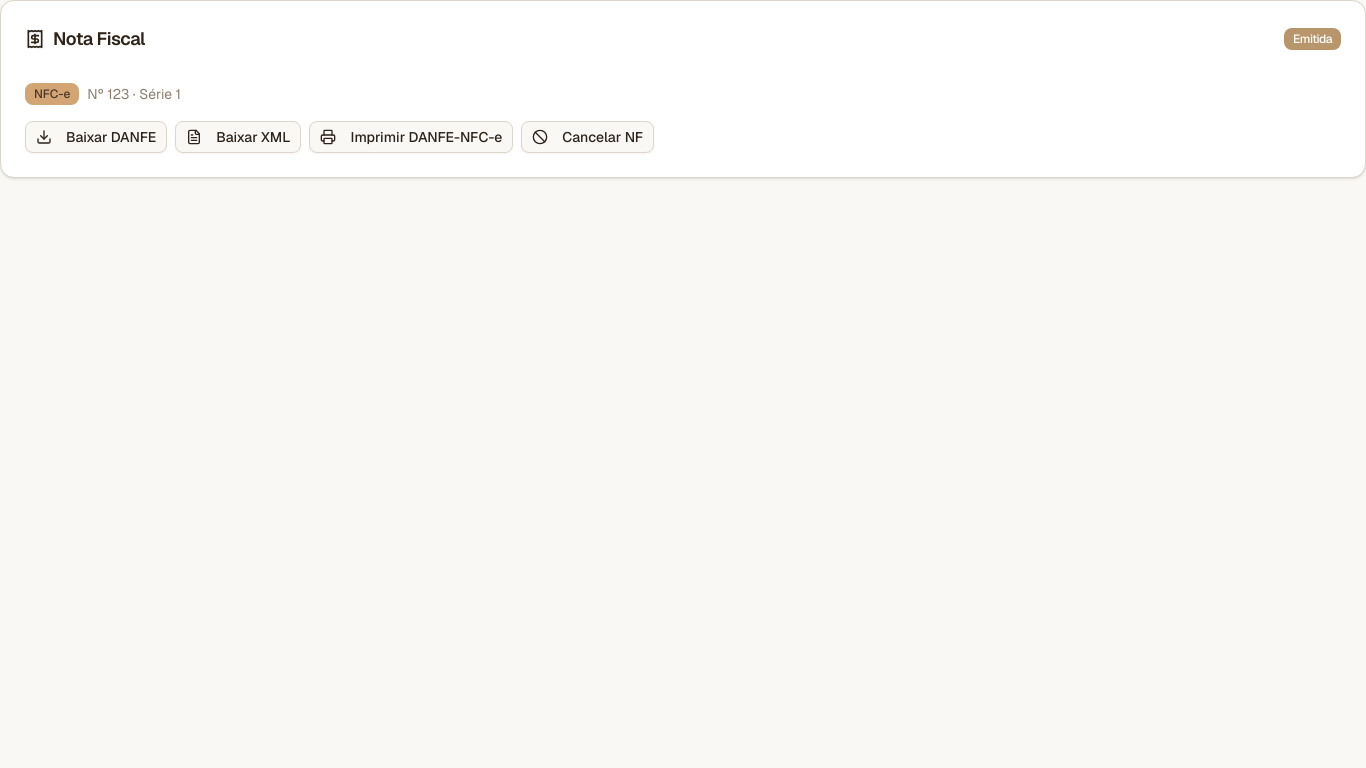
Scenario: NfSection cancellation › shows the SEFAZ rejection message inside the dialog
This screenshot has width=1366, height=768.
Step 1. Click the button "Cancelar NF" → (588, 137), box [521, 121, 654, 153]
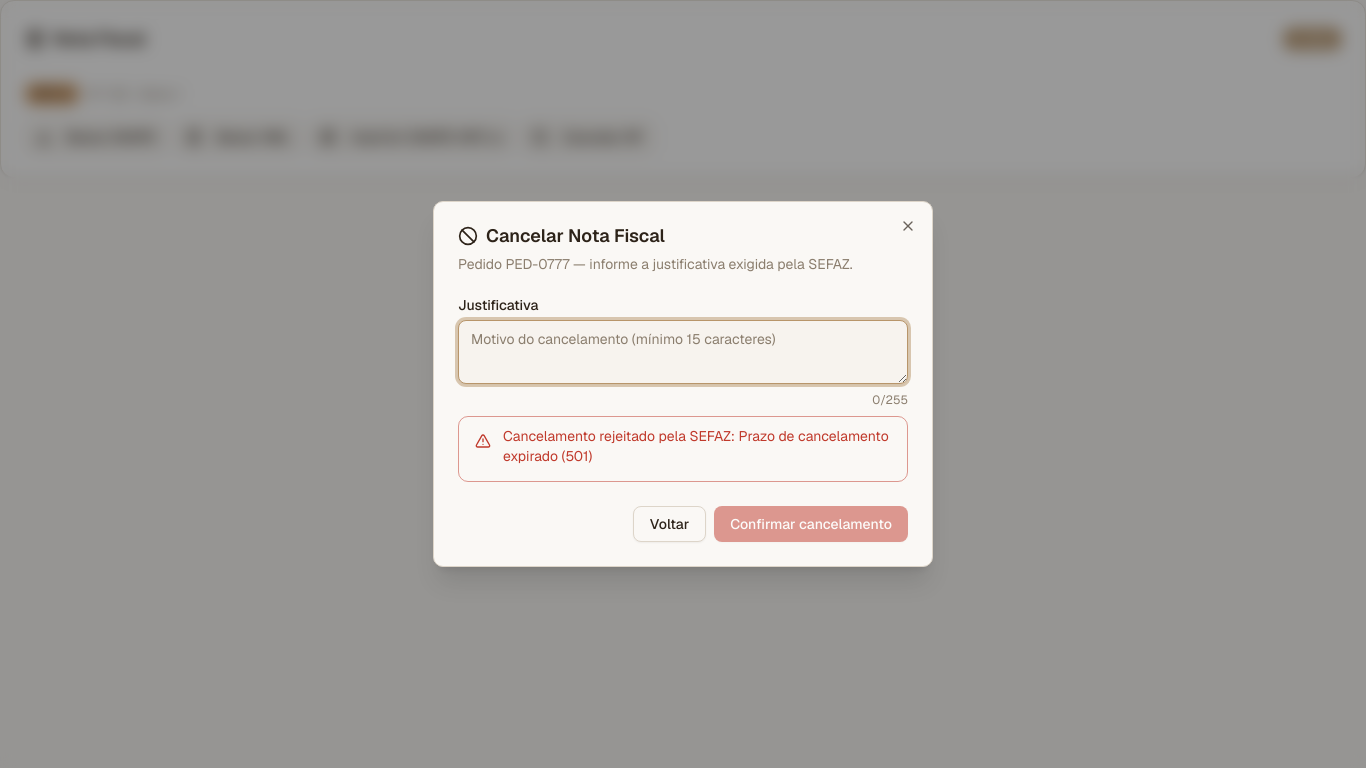
Check: the text "Prazo de cancelamento expirado" is shown, box [503, 427, 889, 465]
Check: the text "501" is shown, box [558, 447, 592, 465]
